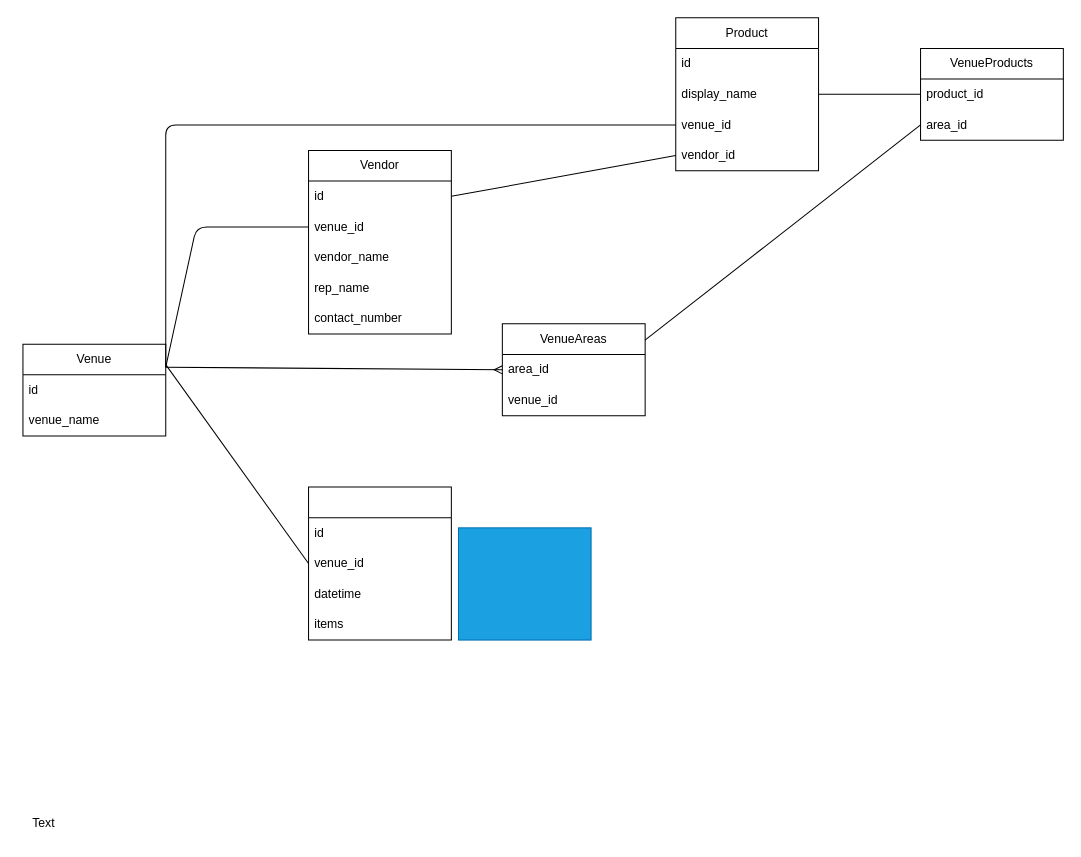
The diagram is 1081 pixels wide and 857 high, and some of its shapes have lost their labels. The box of each missing label's shape, as (x1, y1, x2, y2) in pixels:
item { itemId: string areas: { area: string amount: number }[] }: (457, 527, 591, 640)
Order: (308, 486, 451, 640)
